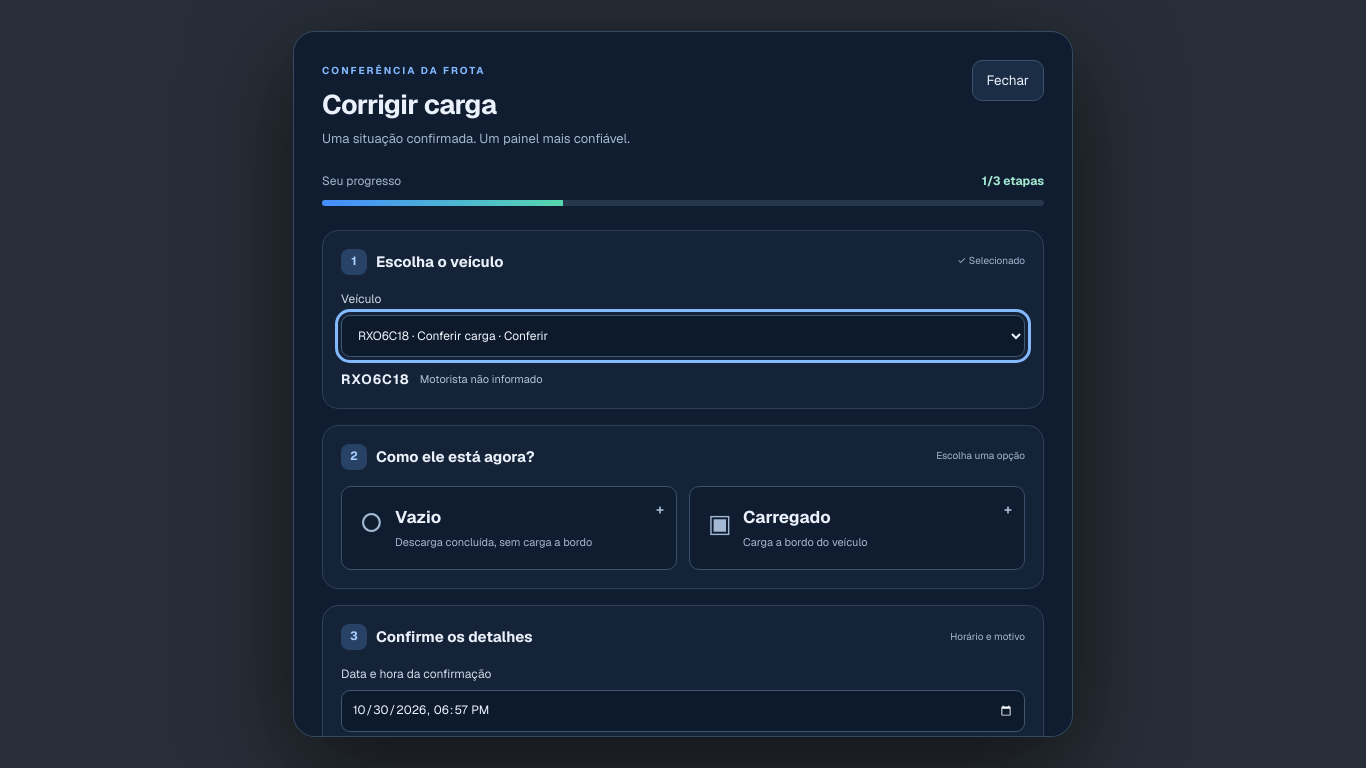
prioritizes uncertain vehicles, saves the operation context and refreshes the panel
Expected: the dropdown labelled "Veículo" shows "RXO6C18 · Conferir carga · Conferir", x1=341 y1=315 x2=1025 y2=357
Click the button "○ Vazio Descarga concluída, sem carga a bordo +" at (418, 517), box x1=341 y1=486 x2=677 y2=570
(page scrolled)
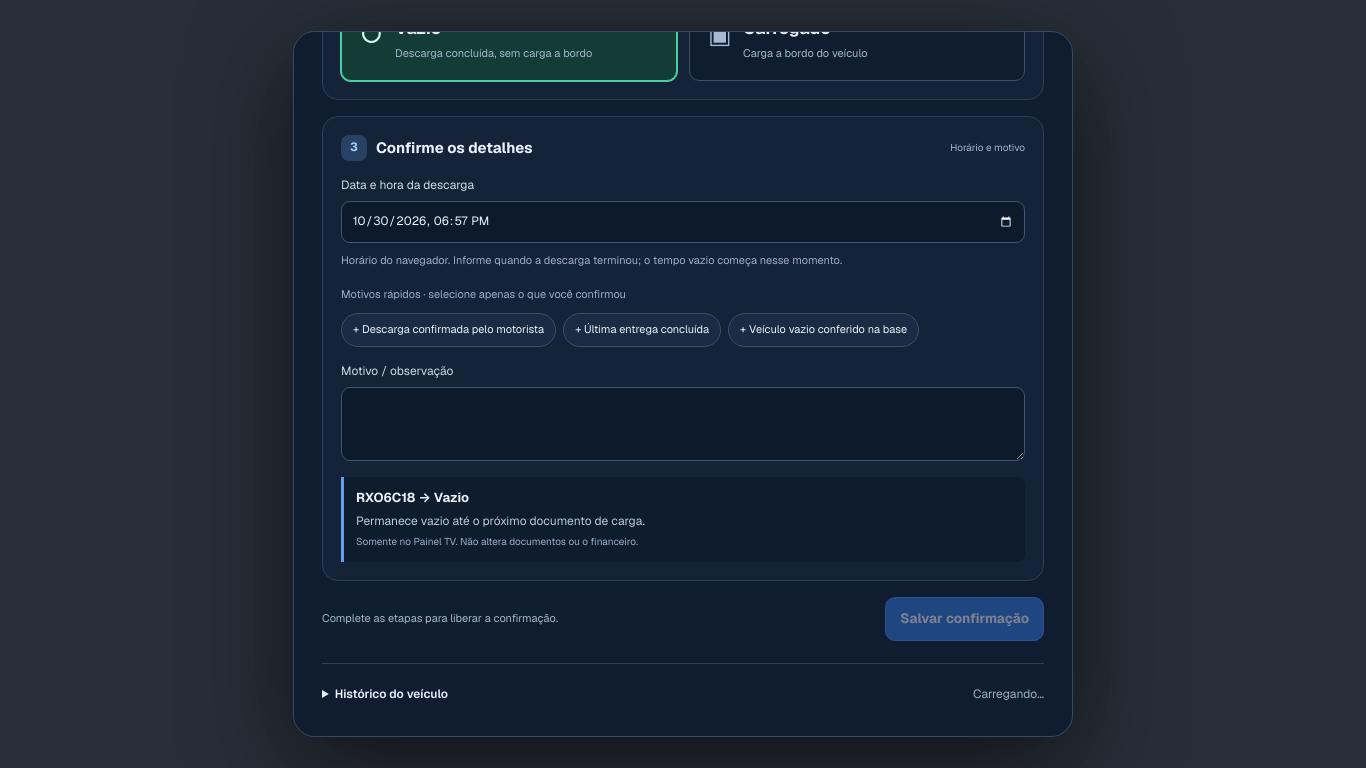
Type "Descarga confirmada pelo motorista" into the text box labelled "Motivo / observação" at (683, 424), box x1=341 y1=387 x2=1025 y2=461
(page scrolled)
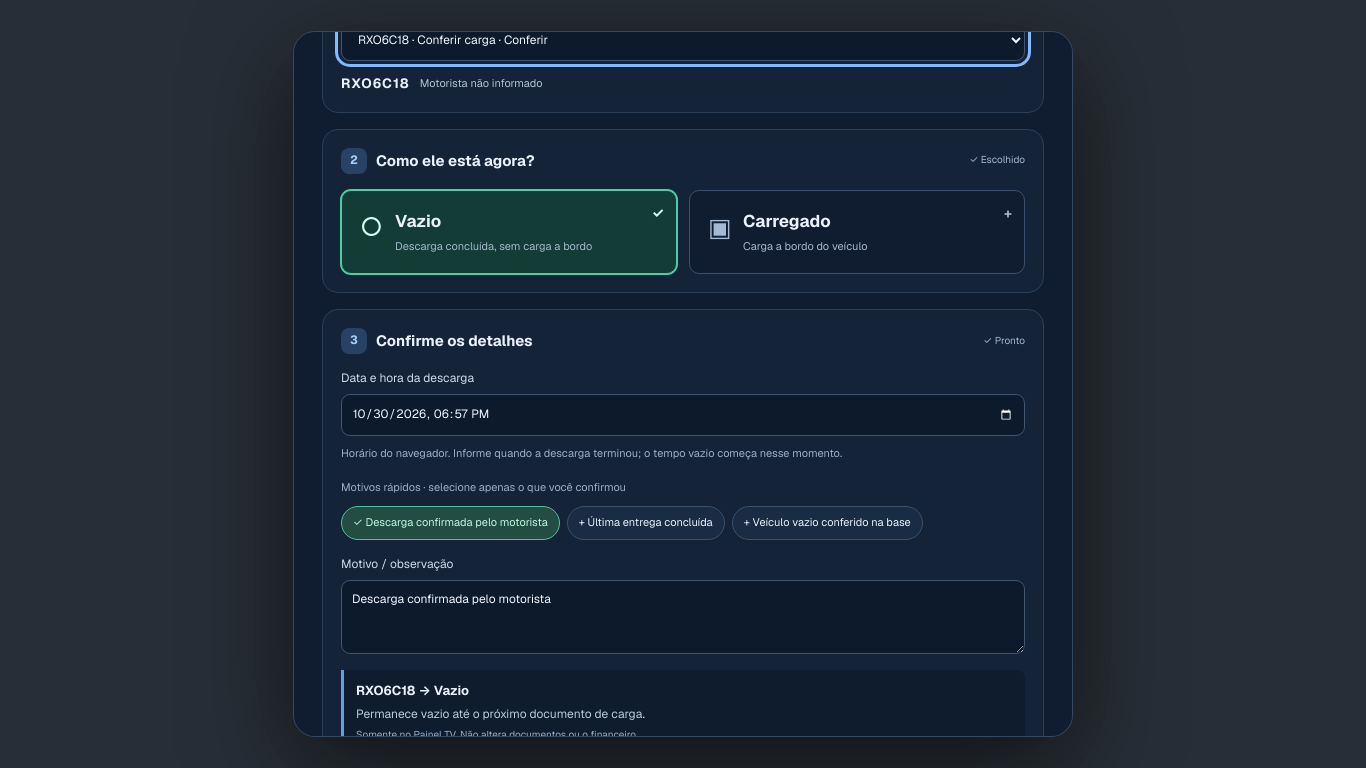
Submit the form named "Salvar confirmação"
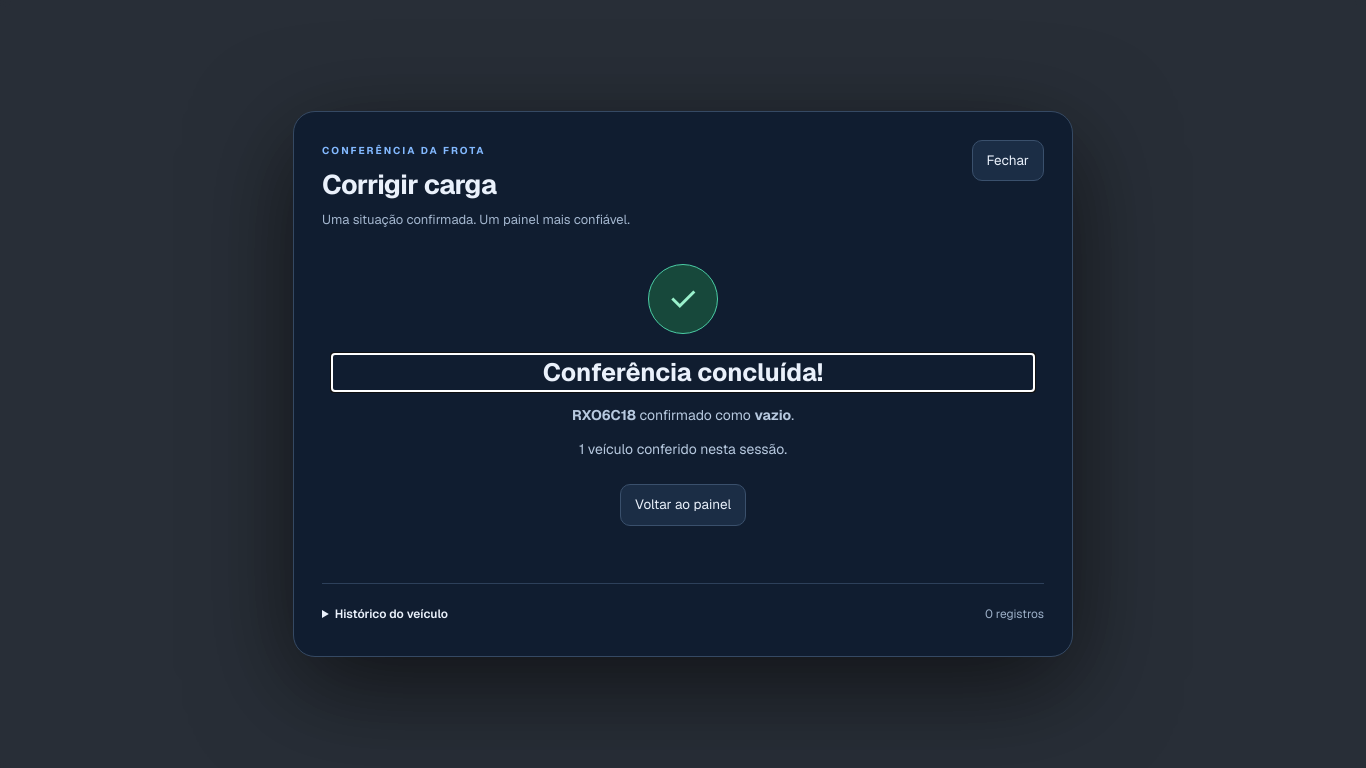
Now the heading "Conferência concluída!" is shown, box x1=543 y1=356 x2=823 y2=388
